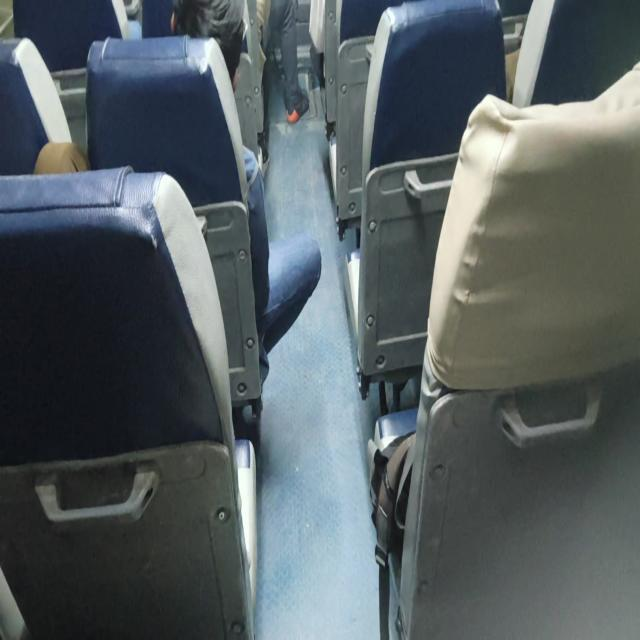person: (170, 1, 322, 393), (256, 0, 310, 124)
